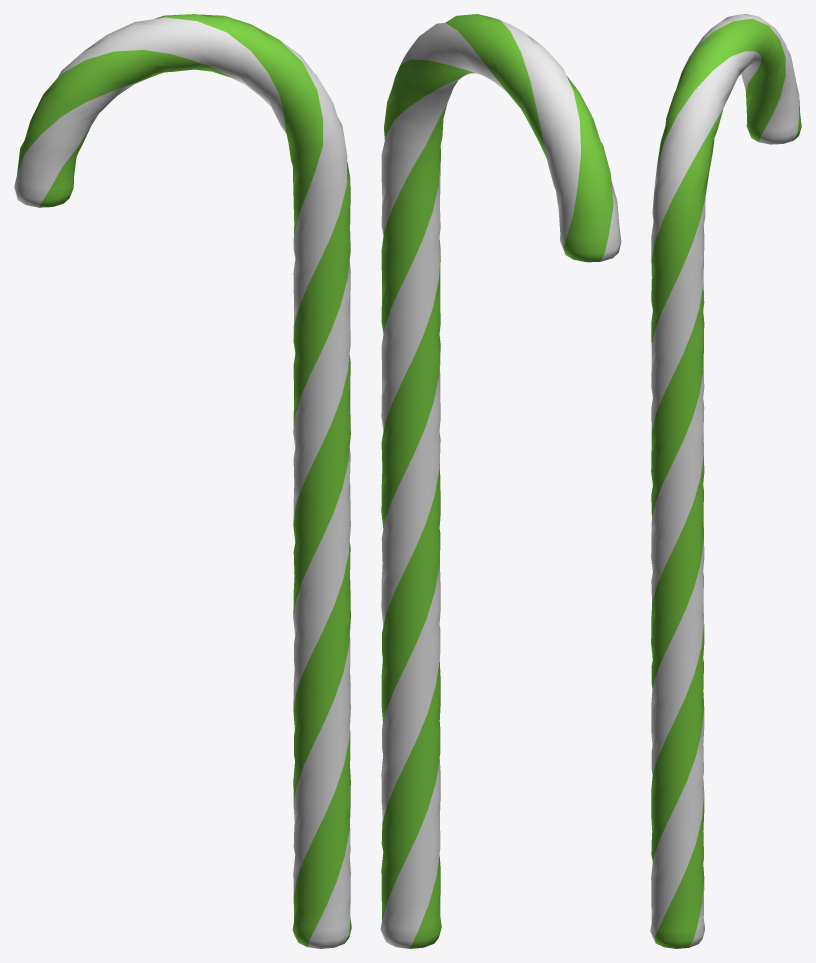
File: Polkagris_6.glb
3 views of the same model, side by side, from view 1: azimuth 30°, elevation 25°; view 2: azimuth 150°, elevation 25°; view 3: azimuth 270°, elevation 25° (orthographic). The views are drawn at different scales.
Parts seen in each view (by area): view 1: Polkagrisar.006; view 2: Polkagrisar.006; view 3: Polkagrisar.006.
Boxes of the visible parts, left/top/right/bottom form: Polkagrisar.006: left=14, top=14, right=351, bottom=948; Polkagrisar.006: left=380, top=14, right=621, bottom=948; Polkagrisar.006: left=650, top=14, right=801, bottom=948.
Size of the model in its own units: 0.7729 by 2.48 by 0.3946.
